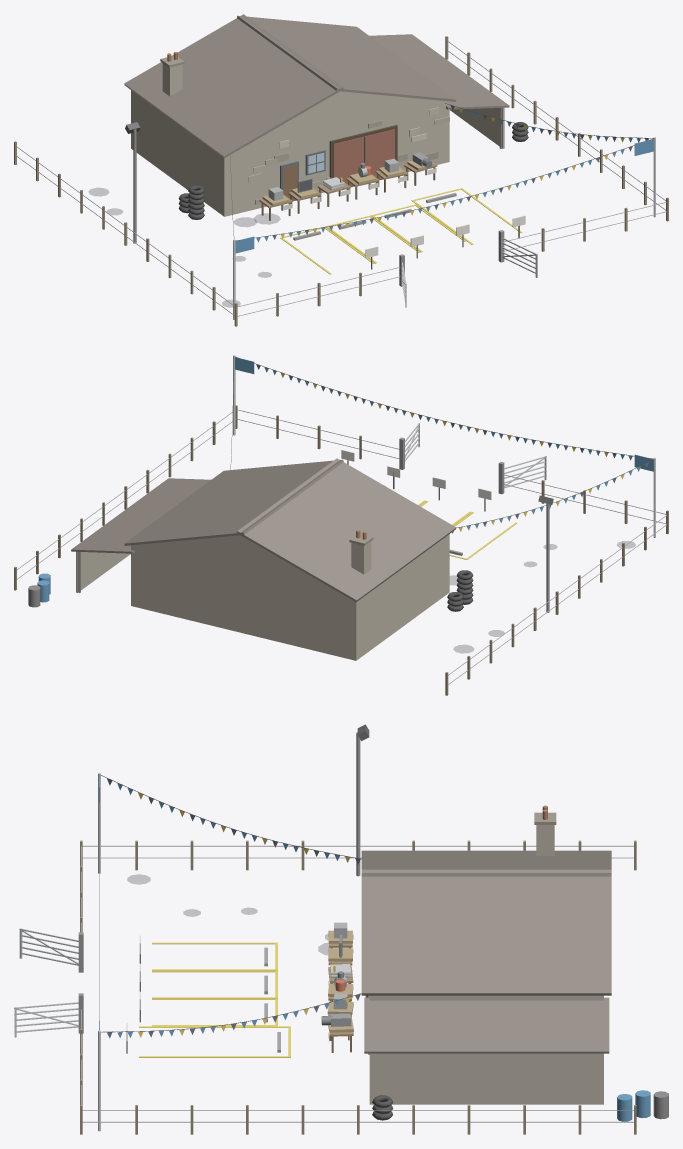
File: groes_garage.glb
3 renders of one model, top to bottom at view 1: azimuth 30°, elevation 25°; view 2: azimuth 150°, elevation 25°; view 3: azimuth 270°, elevation 25°, orthographic. The views are drawn at different scales.
Bounding box in the file's own units: 23.94 × 6.22 × 24.98.
